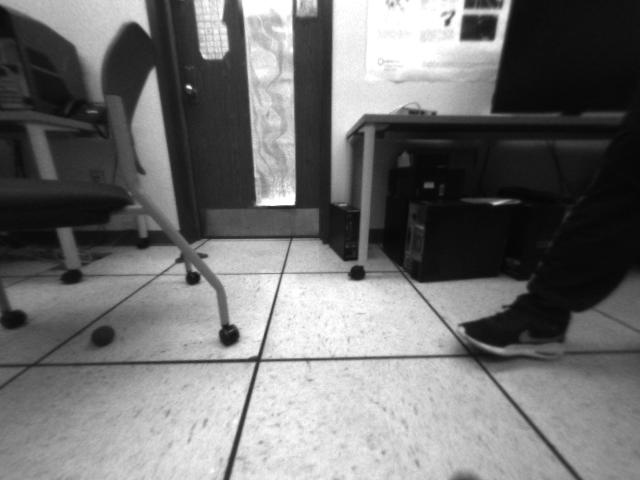dogtoy: (87, 321, 122, 350)
